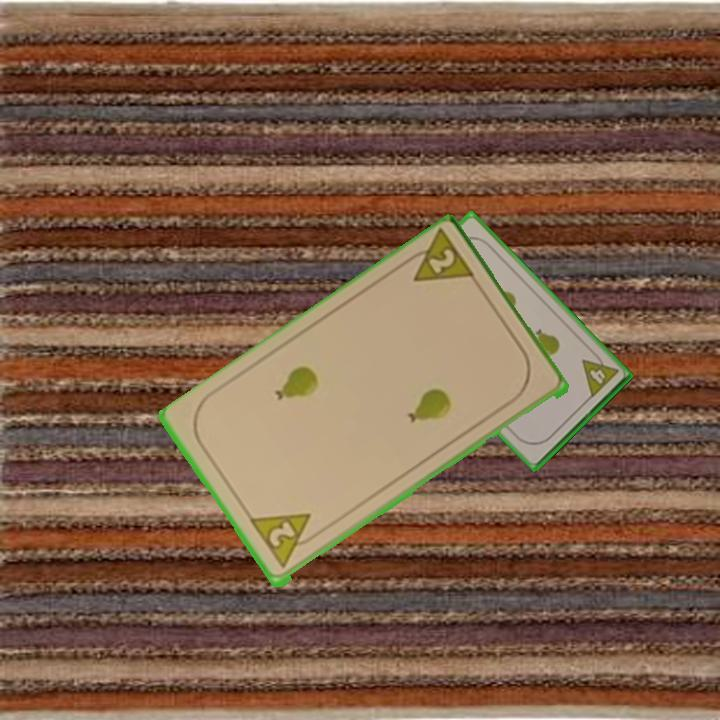2p: (397, 227, 479, 286), (247, 509, 323, 572)
4p: (578, 348, 621, 401)
